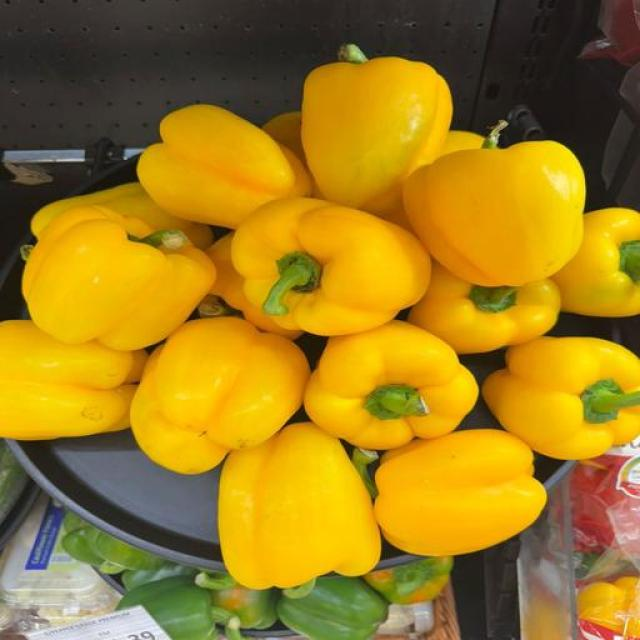organic: (0, 207, 216, 438), (403, 122, 586, 286), (302, 43, 451, 228), (218, 423, 379, 588), (63, 515, 277, 639), (138, 104, 296, 227), (483, 337, 639, 459), (409, 265, 559, 353), (314, 102, 432, 204), (119, 570, 277, 639), (552, 208, 639, 317), (278, 577, 387, 639), (118, 577, 218, 639), (63, 514, 166, 573), (195, 572, 277, 639), (364, 557, 452, 604), (577, 577, 639, 639), (262, 252, 321, 316), (62, 513, 124, 573), (210, 585, 277, 628), (95, 532, 164, 569), (582, 379, 639, 423), (392, 557, 452, 597), (0, 439, 28, 521), (364, 384, 428, 419), (122, 562, 198, 591), (62, 527, 103, 566), (469, 285, 517, 313), (352, 448, 378, 499), (128, 229, 188, 249), (198, 294, 242, 317), (213, 608, 243, 639), (214, 609, 243, 639), (619, 240, 639, 283), (573, 552, 602, 579), (482, 120, 508, 148), (195, 572, 237, 589), (283, 578, 316, 598), (338, 44, 368, 63), (63, 512, 89, 533), (98, 560, 124, 574), (19, 243, 34, 262)
